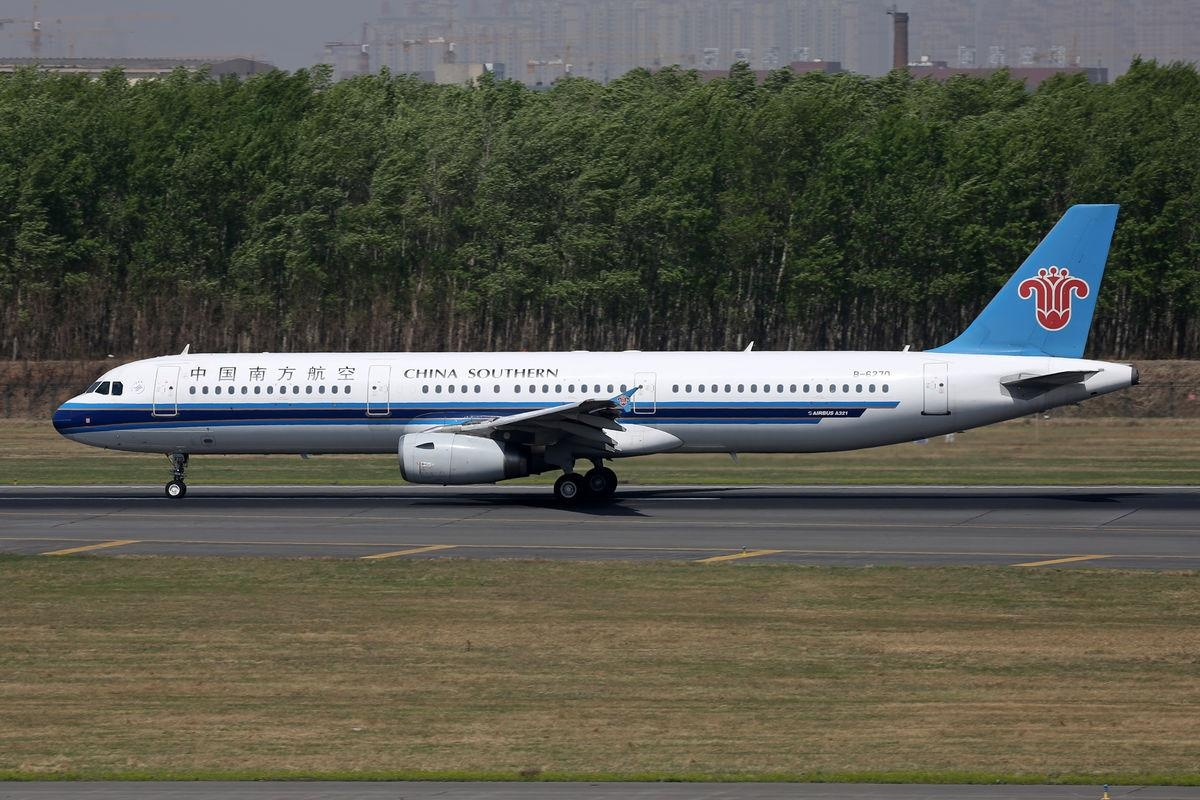airplane: (48, 198, 1144, 508)
